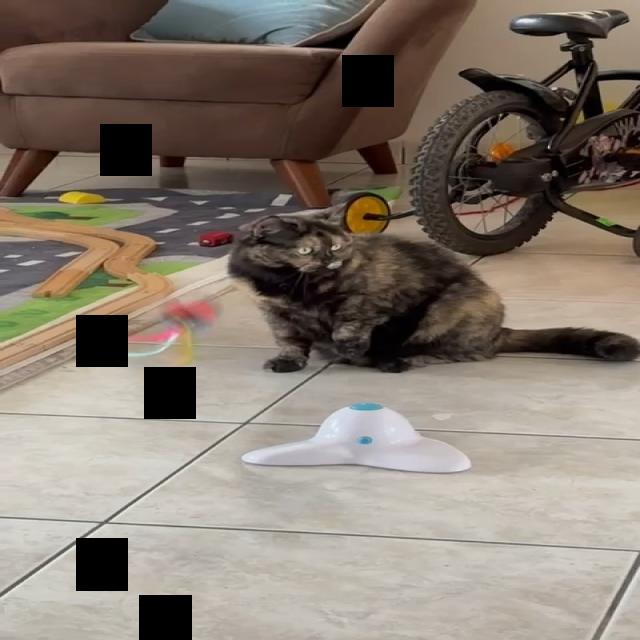authorized: (225, 194, 639, 374)
